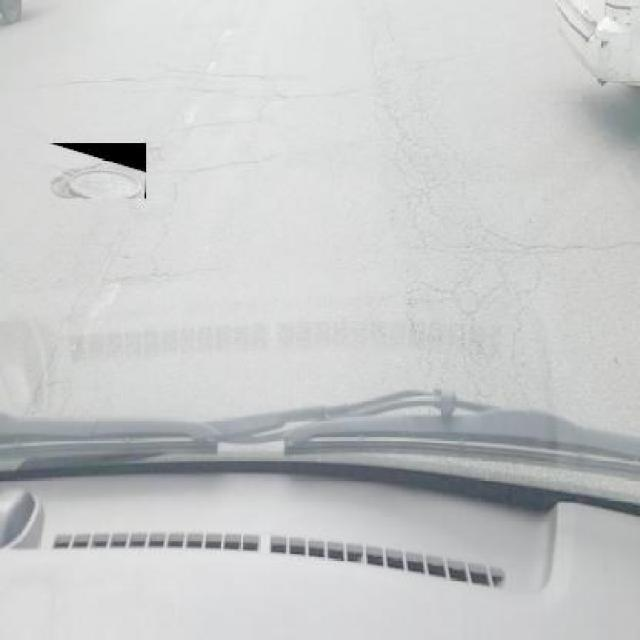Manhole: (47, 143, 146, 200)
